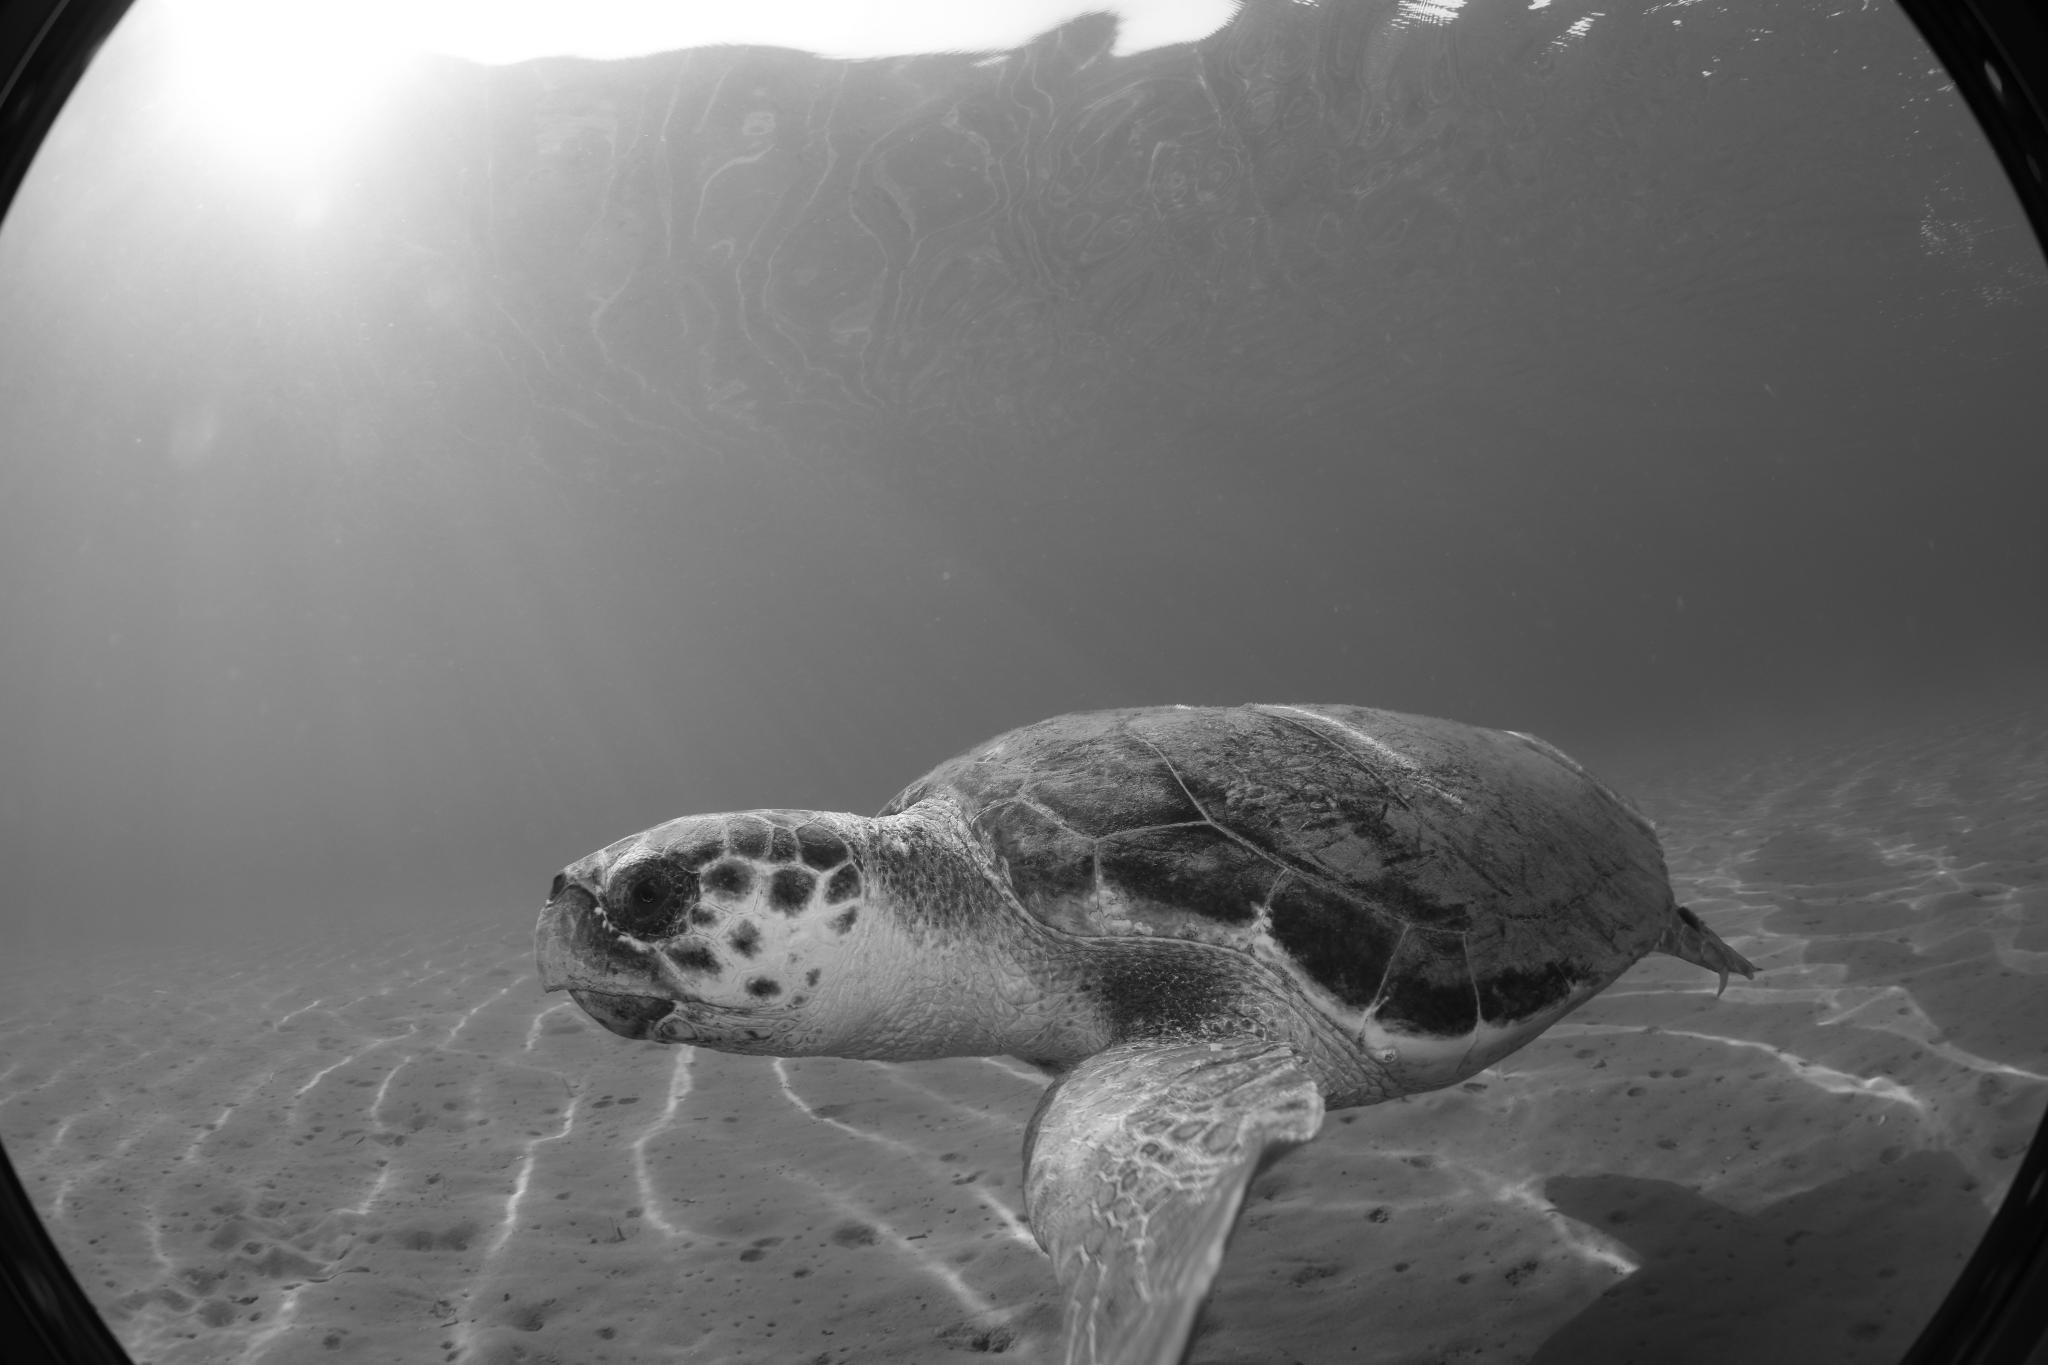Head: (535, 810, 927, 1061)
